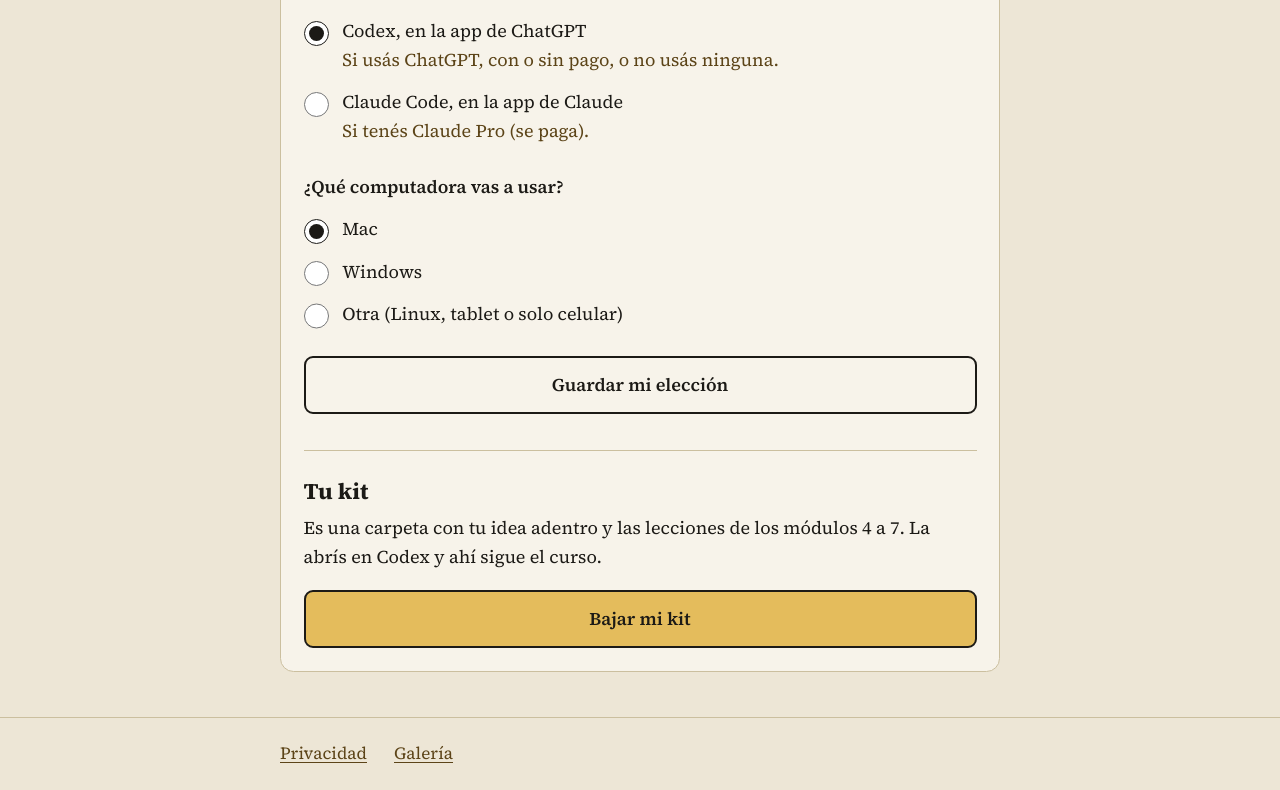
Test: Modulo › en el módulo 3, bajar el kit a mitad del módulo no esconde el chat ni el "Ya lo hice"
(page scrolled)
Click the button "Bajar mi kit" at (640, 619), box [304,590,976,648]
(page scrolled)
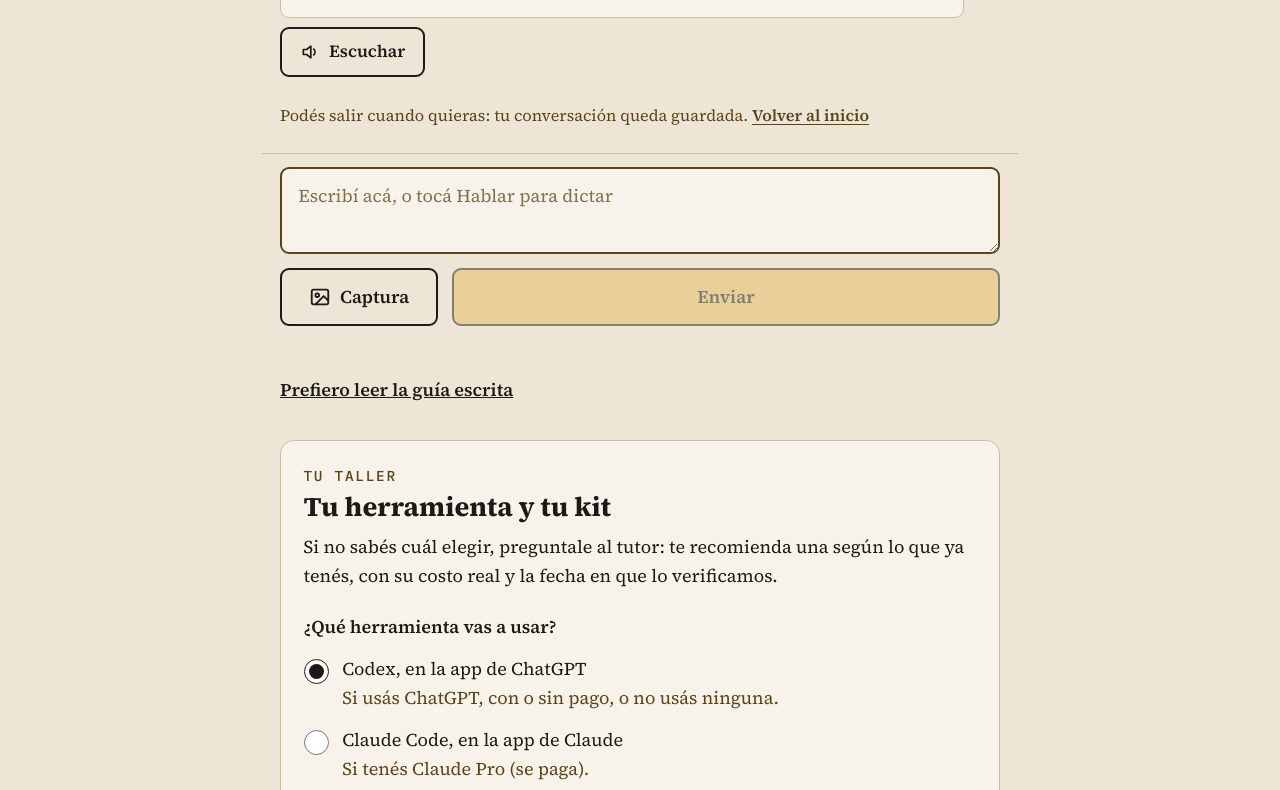
Expected: the text box named "tu mensaje" is shown, [280,167,1000,254]
Click the button "Prefiero leer la guía escrita" at (397, 390), box [280,376,513,404]
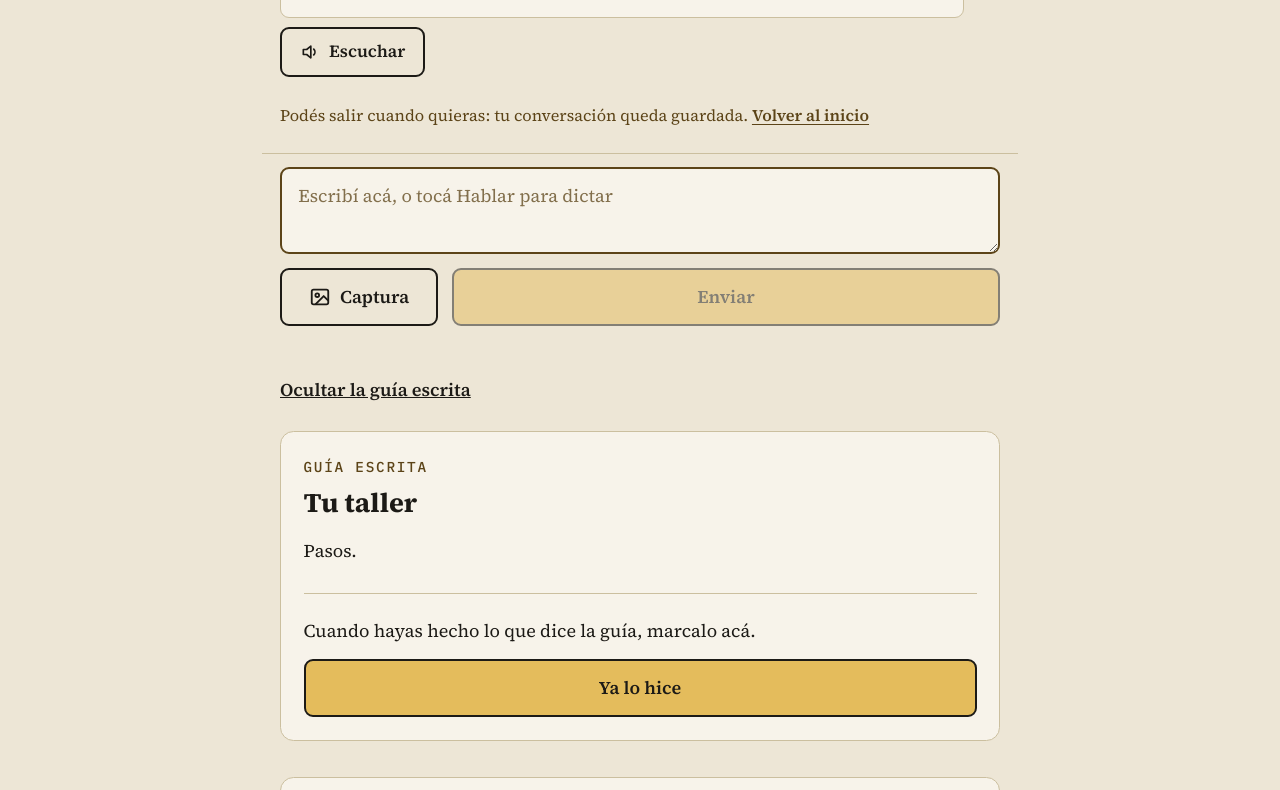
Expected: the button "Ya lo hice" is shown, [304,659,976,717]
